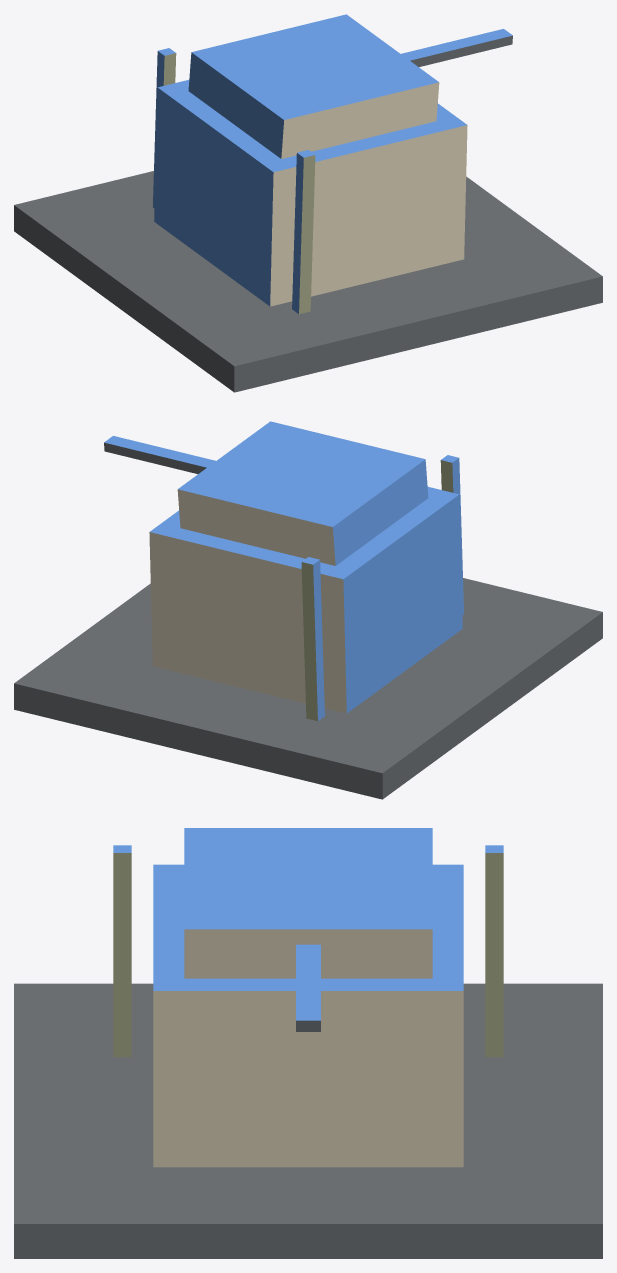
Rendered from meridian_decoy_emplacement_heavily_damaged.glb.
3 views of the same model, one above another, from view 1: azimuth 30°, elevation 25°; view 2: azimuth 150°, elevation 25°; view 3: azimuth 270°, elevation 25° (orthographic). The views are drawn at different scales.
Parts seen in each view (by area): view 1: hull, turret, barrel; view 2: hull, turret, barrel; view 3: hull, turret, barrel.
Boxes of the visible parts, x1,y1,x2,y2 form: hull: (14,48,602,392); turret: (188,14,439,158); barrel: (401,29,512,66); hull: (14,455,602,799); turret: (177,421,428,565); barrel: (104,436,215,473); hull: (14,845,602,1258); turret: (184,828,432,978); barrel: (296,944,320,1031).
Bounding box in the file's own units: 3.82 × 1.88 × 3.8.
